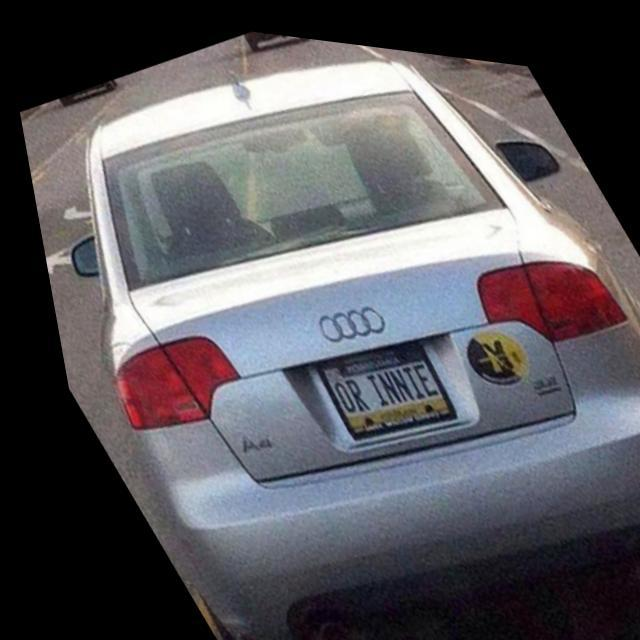license_plate: (292, 308, 451, 450)
